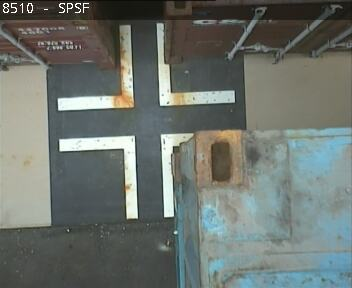groundmarker_1: (58, 130, 238, 218), (56, 24, 236, 112)
